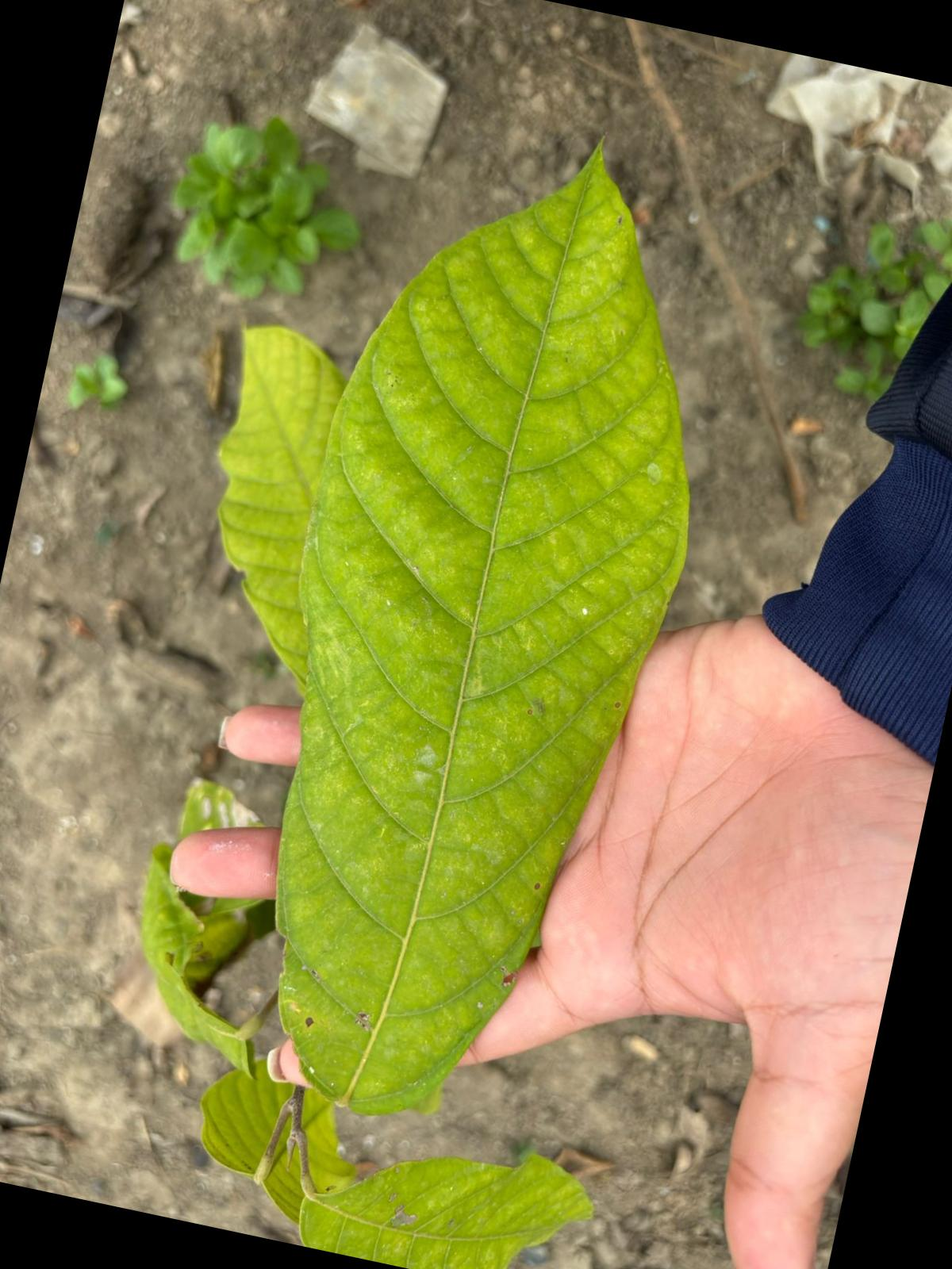Nitrogeno: (278, 151, 689, 1114), (219, 327, 345, 694)
